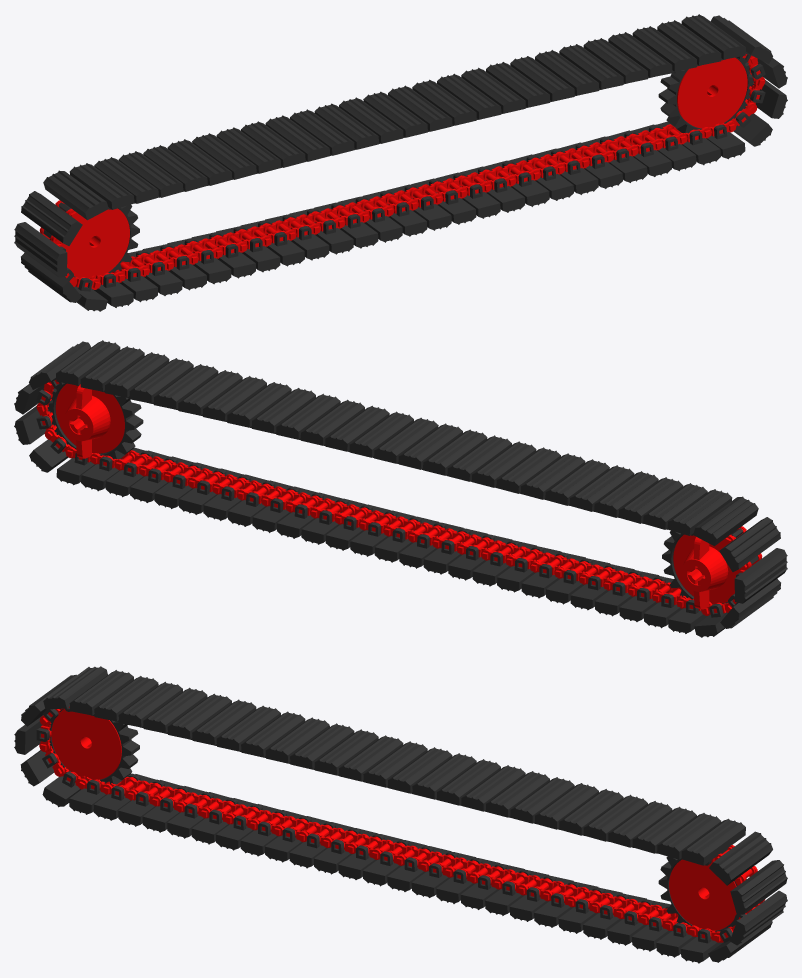
Rendered from conveyorlarge.fbx.
3 renders of one model, top to bottom at view 1: azimuth 30°, elevation 25°; view 2: azimuth 150°, elevation 25°; view 3: azimuth 330°, elevation 25°, orthographic.
Parts seen in each view (by area): view 1: Circle, Wheel2, Wheel1; view 2: Circle, Wheel2, Wheel1; view 3: Circle, Wheel1, Wheel2.
Boxes of the visible parts, x1,y1,x2,y2 form: Circle: [14, 14, 787, 311]; Wheel2: [658, 57, 754, 135]; Wheel1: [43, 202, 139, 278]; Circle: [14, 340, 787, 637]; Wheel2: [47, 383, 143, 461]; Wheel1: [662, 528, 758, 609]; Circle: [14, 666, 787, 963]; Wheel1: [49, 708, 139, 790]; Wheel2: [658, 848, 746, 931].
Size of the model in its own units: 2673 by 392 by 266.
